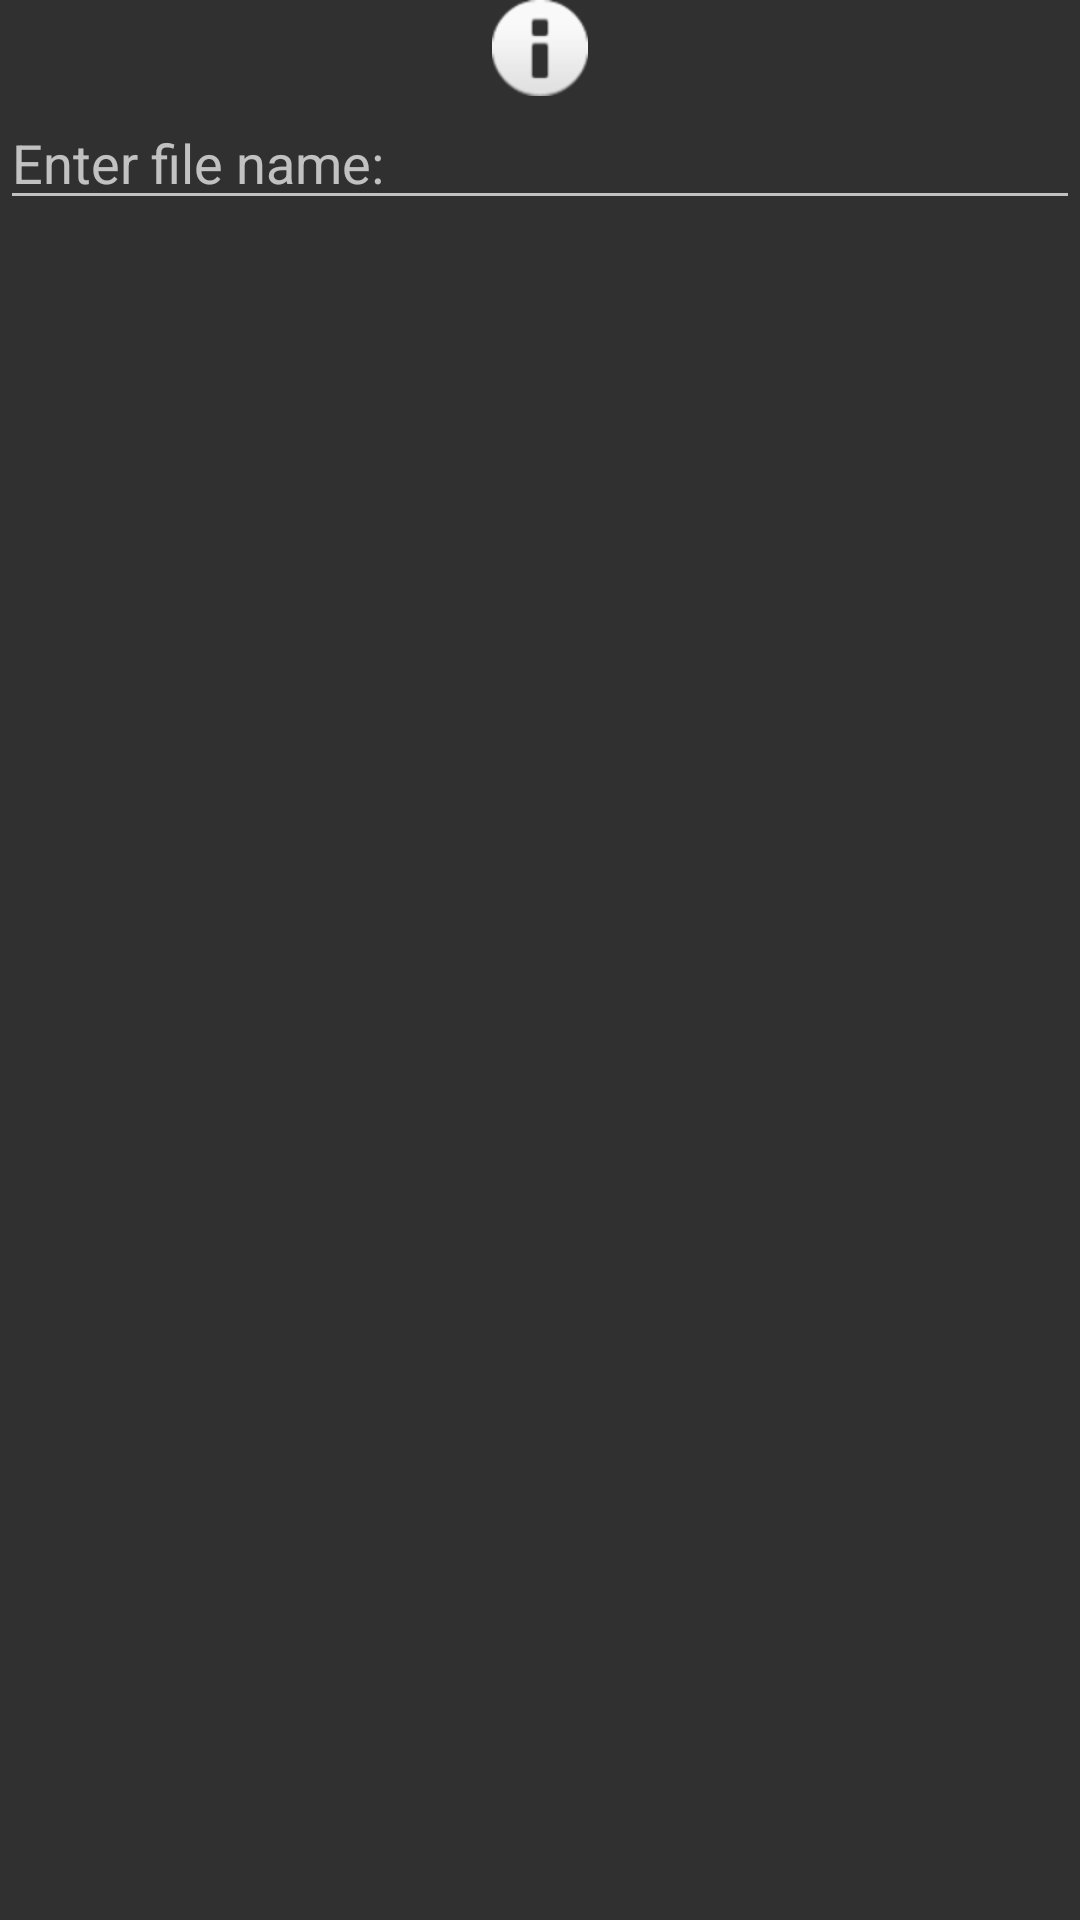

Point at icon controls on the screen. Image size 1080×1920, points as [x,y].
info: [540,48]
